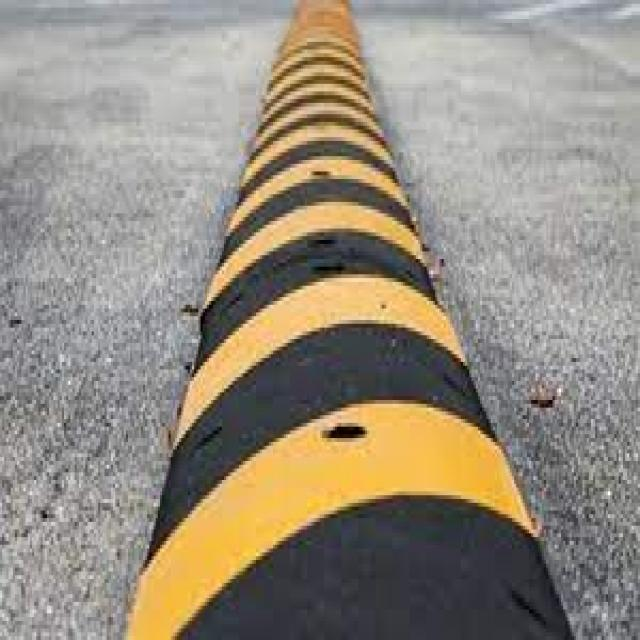Marked Bump: (125, 11, 581, 640)
